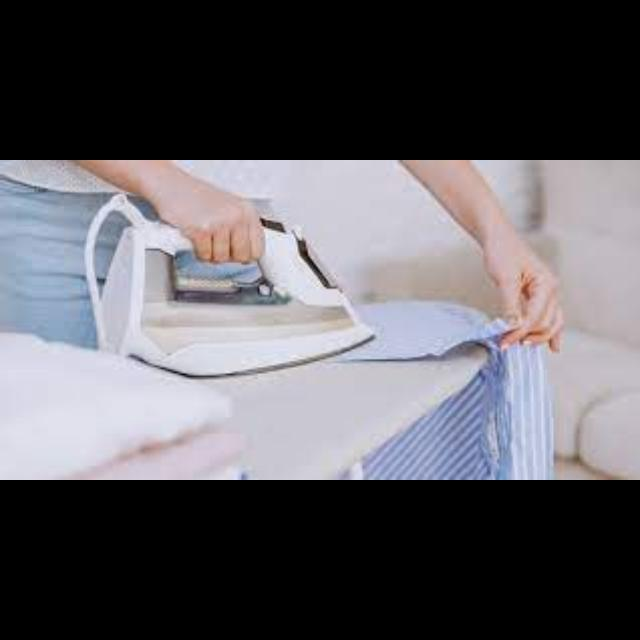Clothes-Iron: (111, 199, 387, 375)
